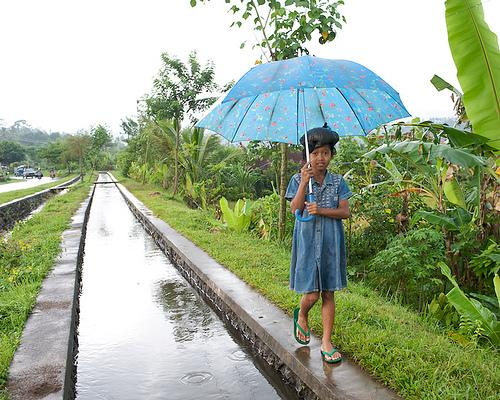person: (284, 129, 351, 362)
